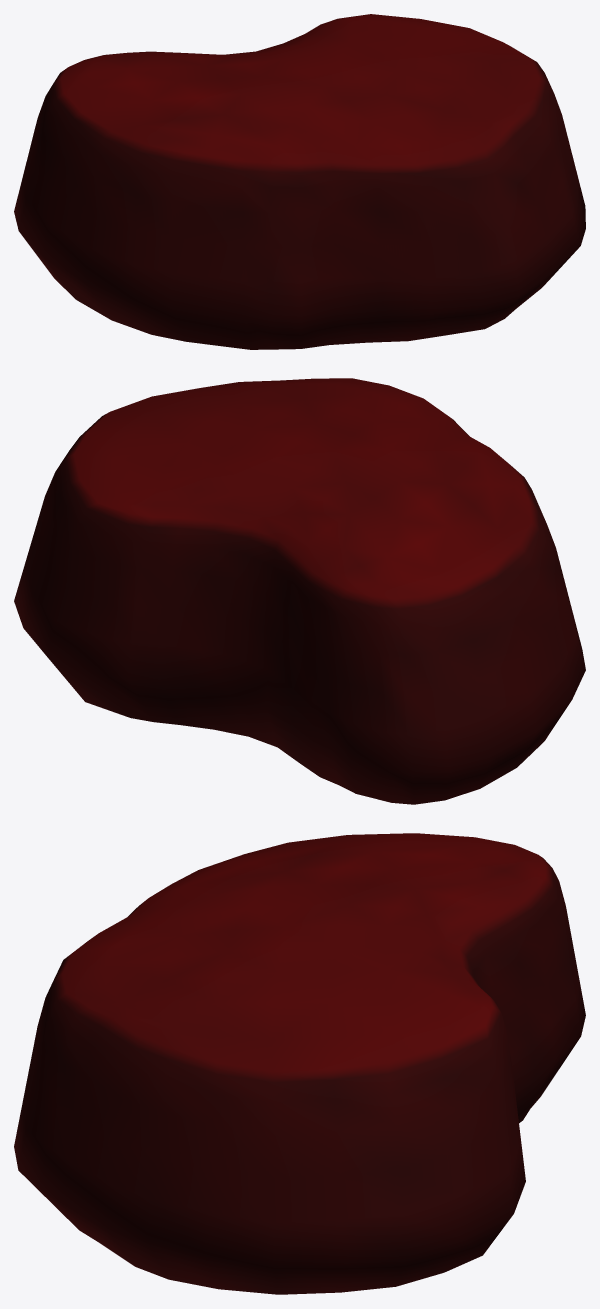
Rendered from geology-landforms-greenhillmedium_v4.fbx.
The picture shows the model from 3 angles, top to bottom: view 1: azimuth 30°, elevation 25°; view 2: azimuth 150°, elevation 25°; view 3: azimuth 270°, elevation 25°; orthographic projection. The views are drawn at different scales.
Visible parts, largest first — view 1: GreenHillMedium_v4; view 2: GreenHillMedium_v4; view 3: GreenHillMedium_v4.
Part boxes in pixels (left/top/right/bottom): GreenHillMedium_v4: left=14, top=14, right=585, bottom=349; GreenHillMedium_v4: left=14, top=378, right=585, bottom=804; GreenHillMedium_v4: left=14, top=833, right=585, bottom=1294.
Bounding box in the file's own units: 44.55 × 17.5 × 37.19.
